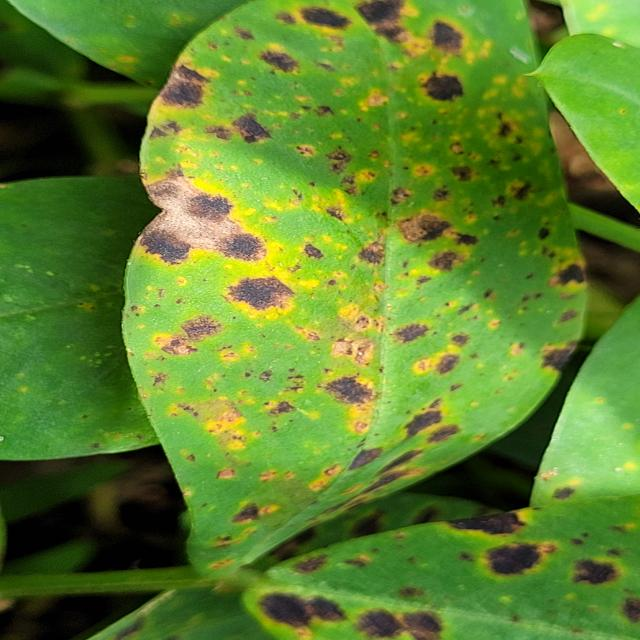Ground nut_tikka leaf spot: (133, 2, 590, 593)
